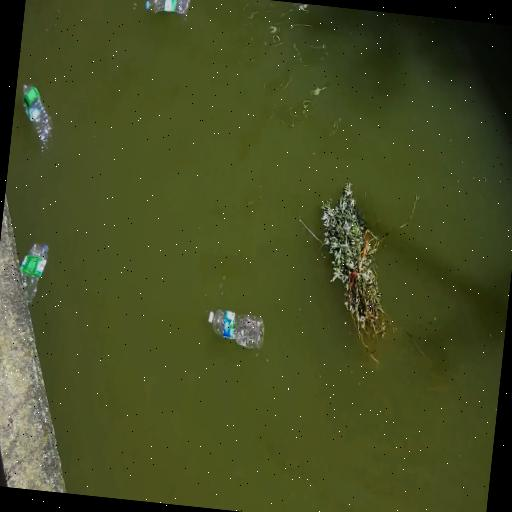plastic: (208, 309, 263, 349), (22, 85, 51, 150), (19, 244, 48, 303), (145, 0, 189, 17)
twig: (322, 183, 386, 361)
